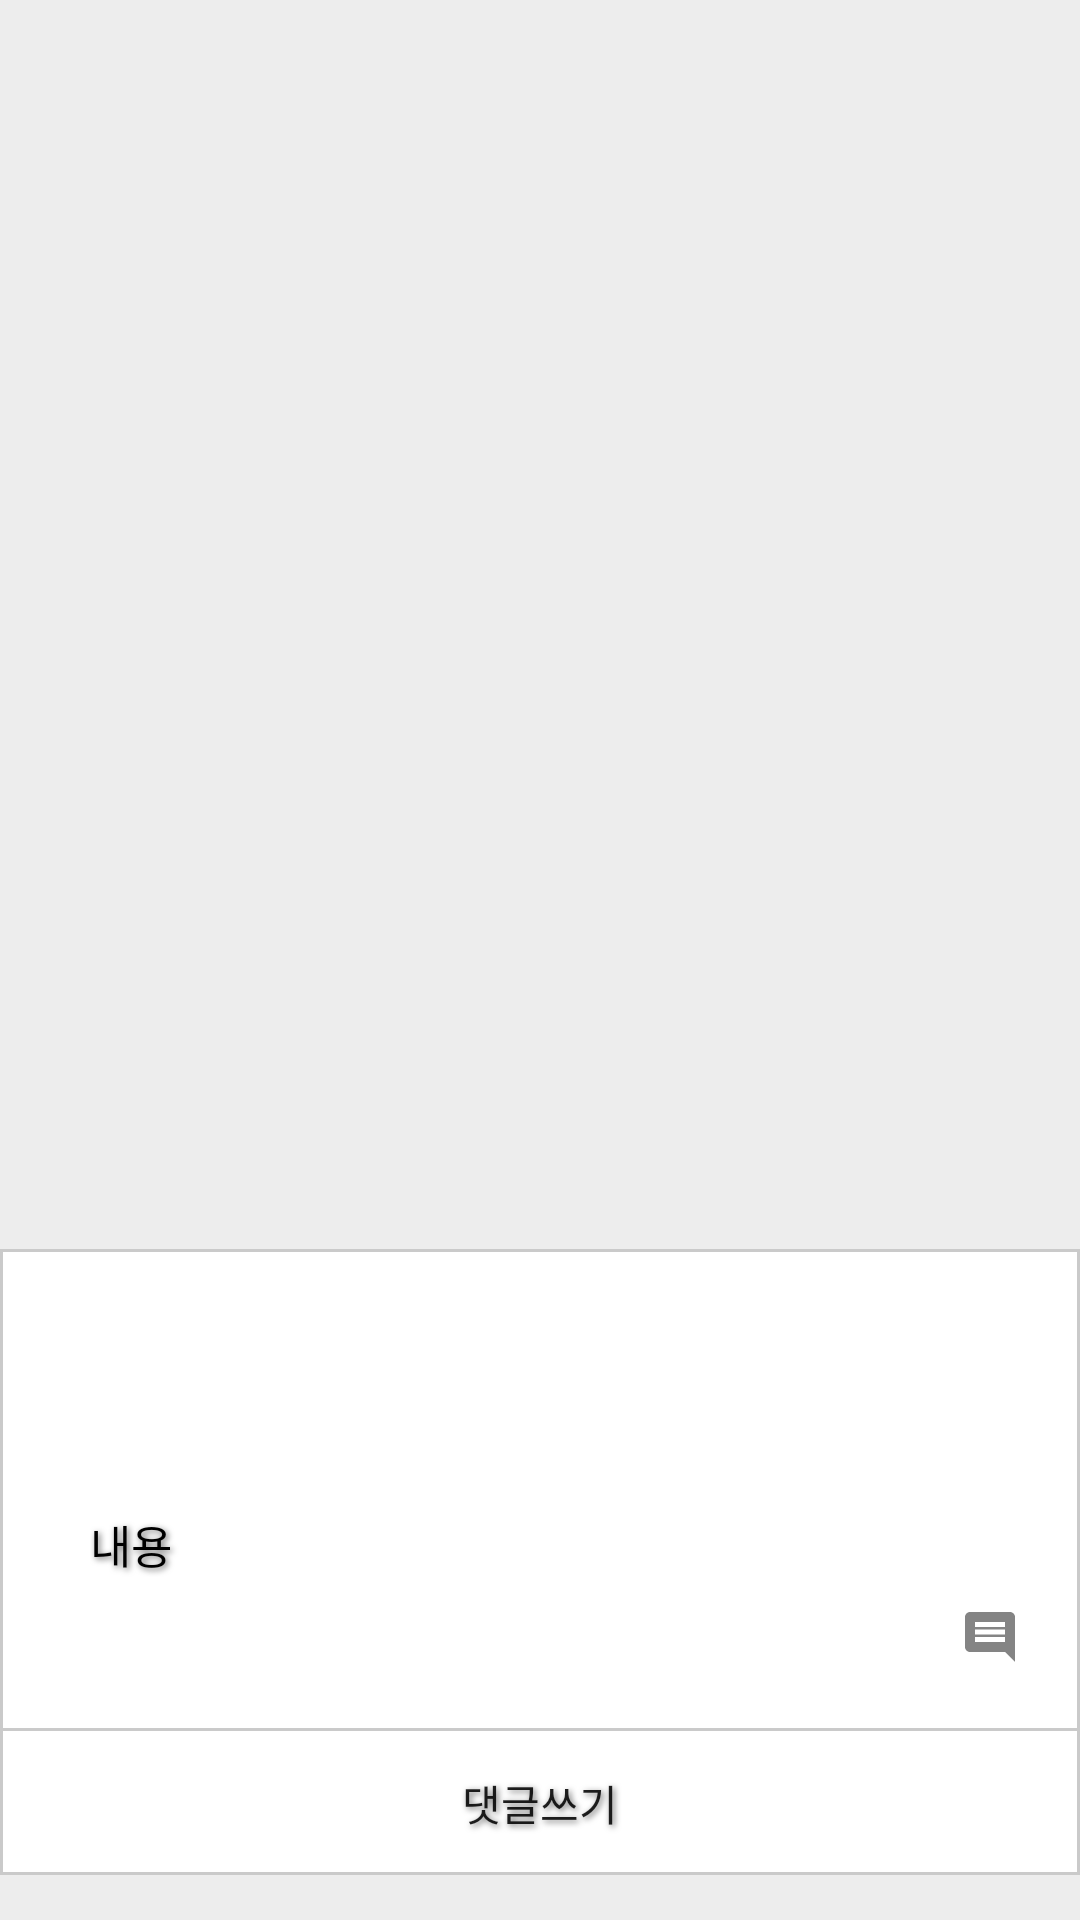

Icon bounding boxes for this 1080 × 1920 phone screenshot, format (x1, y1, x2, y2):
insert comment: (965, 1612, 1015, 1662)
